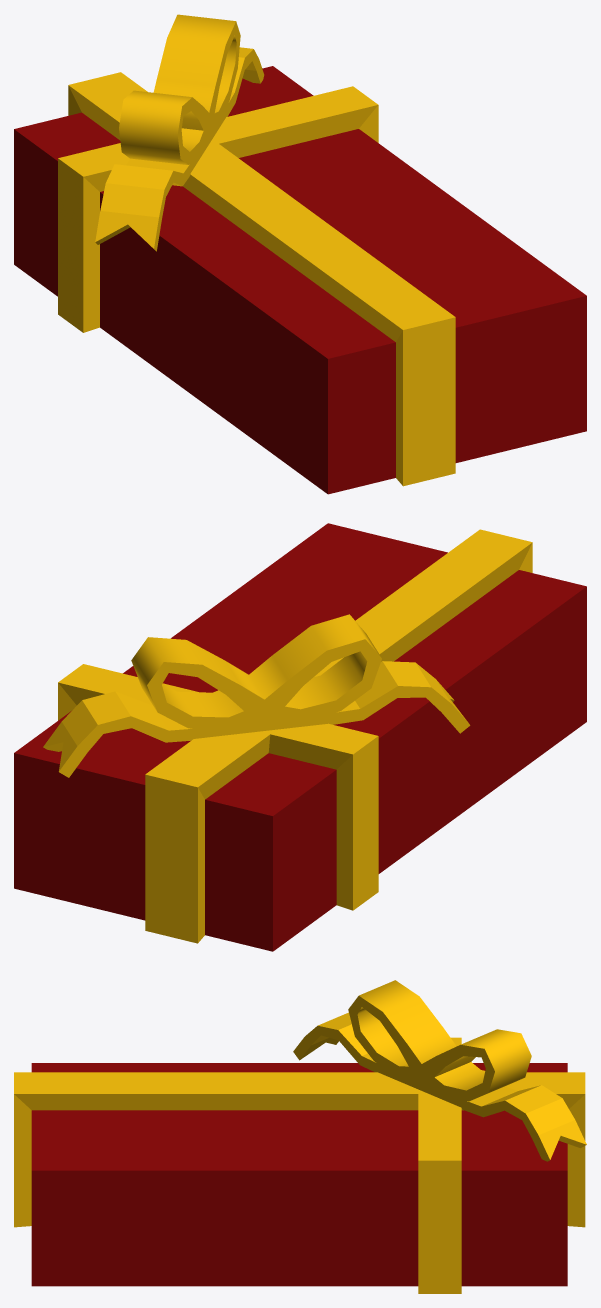
File: Presents13.fbx
3 renders of one model, top to bottom at view 1: azimuth 30°, elevation 25°; view 2: azimuth 150°, elevation 25°; view 3: azimuth 270°, elevation 25°, orthographic. The views are drawn at different scales.
Visible parts, largest first — view 1: Present13; view 2: Present13; view 3: Present13.
Boxes of the visible parts, x1,y1,x2,y2 form: Present13: (14, 14, 586, 494); Present13: (14, 523, 586, 951); Present13: (14, 980, 586, 1293).
Size of the model in its own units: 51.77 by 34.94 by 89.83.
